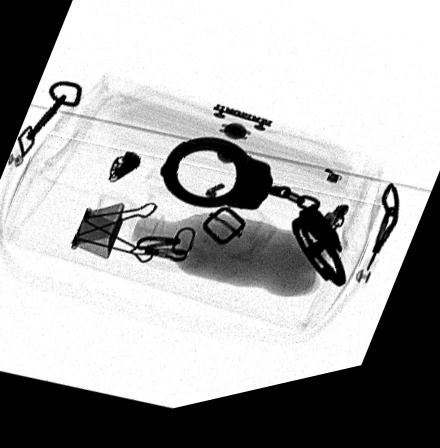HandCuffs: (158, 145, 346, 302)
